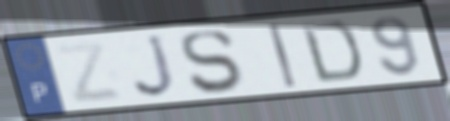9: (368, 15, 422, 78)
D: (297, 19, 364, 85)
I: (265, 22, 300, 90)
J: (131, 32, 180, 100)
S: (177, 27, 245, 97)
Z: (51, 38, 127, 106)
